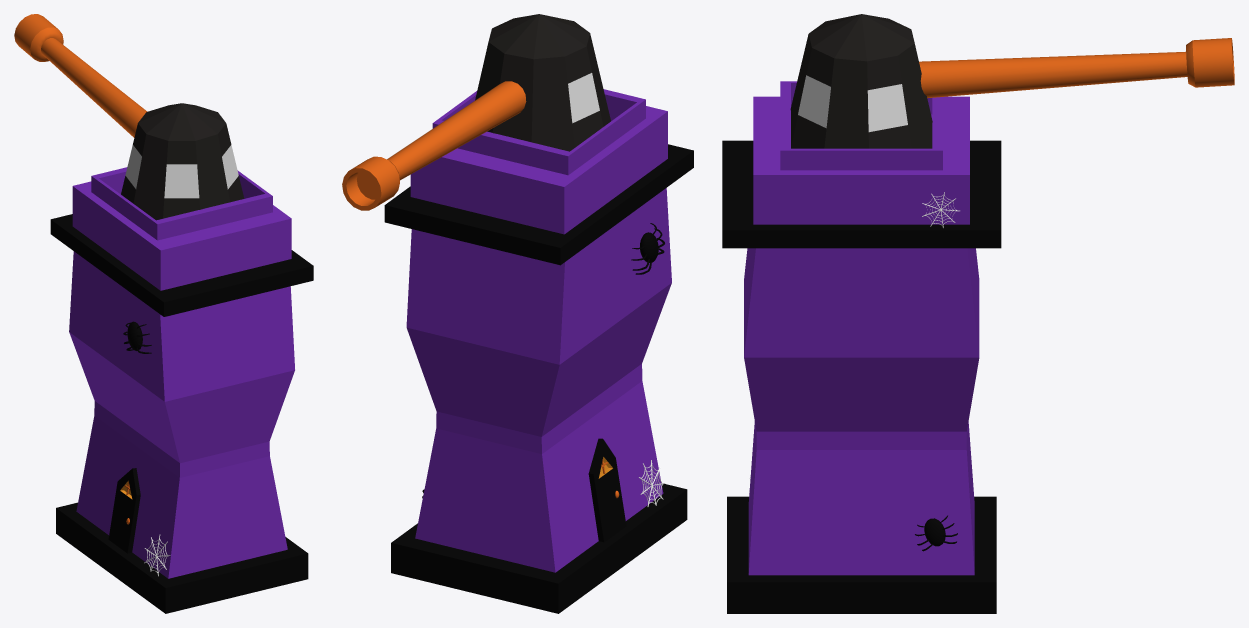
Rendered from Turret2.fbx.
The picture shows the model from 3 angles, left to right: view 1: azimuth 30°, elevation 25°; view 2: azimuth 150°, elevation 25°; view 3: azimuth 270°, elevation 25°; orthographic projection. The views are drawn at different scales.
Visible parts, largest first — view 1: Turret, TurretTop, Gun, Door, Spider, Cobweb; view 2: Turret, TurretTop, Gun, Door, Spider, Cobweb; view 3: Turret, TurretTop, Gun.
Boxes of the visible parts, left/top/right/bottom form: Turret: left=50, top=167, right=313, bottom=613; TurretTop: left=121, top=103, right=244, bottom=220; Gun: left=14, top=14, right=147, bottom=137; Door: left=108, top=468, right=140, bottom=553; Spider: left=123, top=321, right=151, bottom=353; Cobweb: left=144, top=534, right=170, bottom=576; Turret: left=384, top=89, right=693, bottom=613; TurretTop: left=475, top=14, right=610, bottom=151; Gun: left=342, top=81, right=526, bottom=210; Door: left=588, top=438, right=626, bottom=542; Spider: left=631, top=223, right=664, bottom=274; Cobweb: left=639, top=460, right=665, bottom=506; Turret: left=722, top=81, right=1001, bottom=613; TurretTop: left=790, top=14, right=932, bottom=148; Gun: left=919, top=38, right=1234, bottom=98.
Size of the model in its own units: 105 by 303 by 252.
